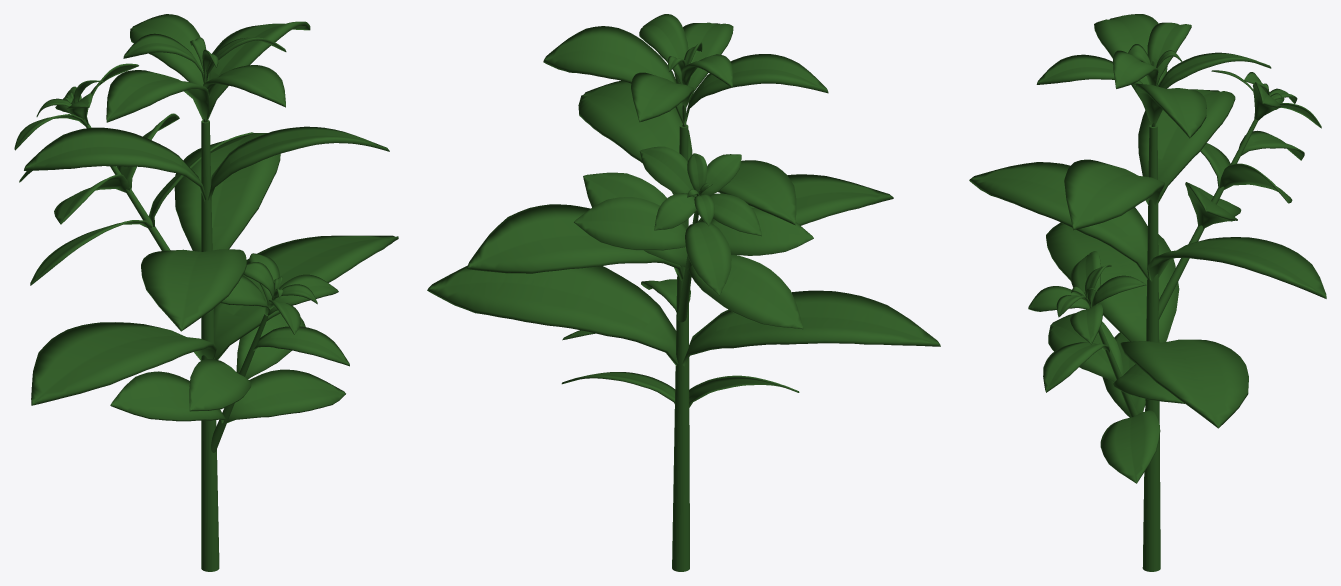
File: big-basil.fbx
3 renders of one model, left to right at view 1: azimuth 30°, elevation 25°; view 2: azimuth 150°, elevation 25°; view 3: azimuth 270°, elevation 25°, orthographic.
Parts seen in each view (by area): view 1: small-basil.003; view 2: small-basil.003; view 3: small-basil.003.
Boxes of the visible parts, box(x1,y1,x2,y2) form: small-basil.003: box(14, 14, 398, 571); small-basil.003: box(427, 14, 940, 571); small-basil.003: box(969, 14, 1326, 571).
Bounding box in the file's own units: 952 × 1104 × 676.
